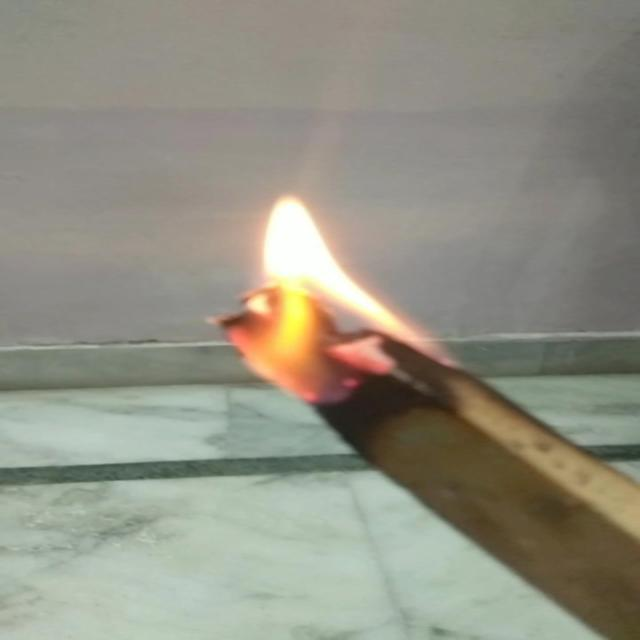fire: (216, 180, 386, 372)
